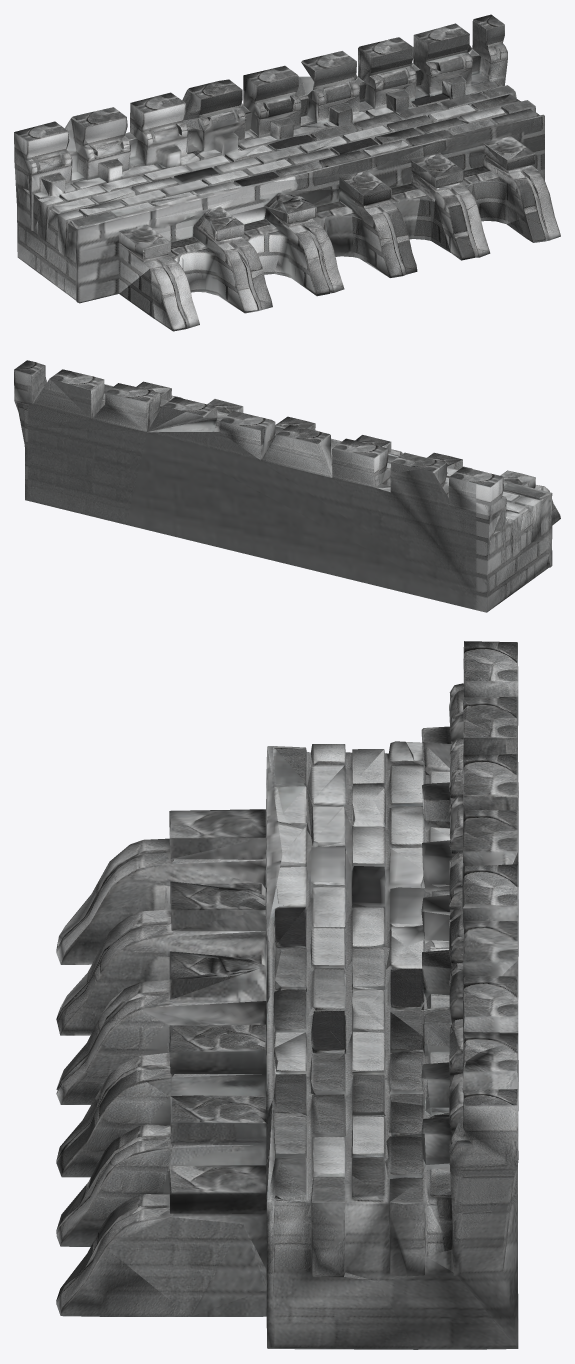
The model's file is Corniche.fbx.
The picture shows the model from 3 angles, top to bottom: view 1: azimuth 30°, elevation 25°; view 2: azimuth 150°, elevation 25°; view 3: azimuth 270°, elevation 25°; orthographic projection. The views are drawn at different scales.
Visible parts, largest first — view 1: Mesh_0; view 2: Mesh_0; view 3: Mesh_0.
Part boxes in pixels (left/top/right/bottom): Mesh_0: left=14, top=14, right=560, bottom=331; Mesh_0: left=14, top=360, right=560, bottom=612; Mesh_0: left=56, top=641, right=518, bottom=1349.
Bounding box in the file's own units: 190 × 48.75 × 79.79.
Materials: 1 (1 with a texture image).
